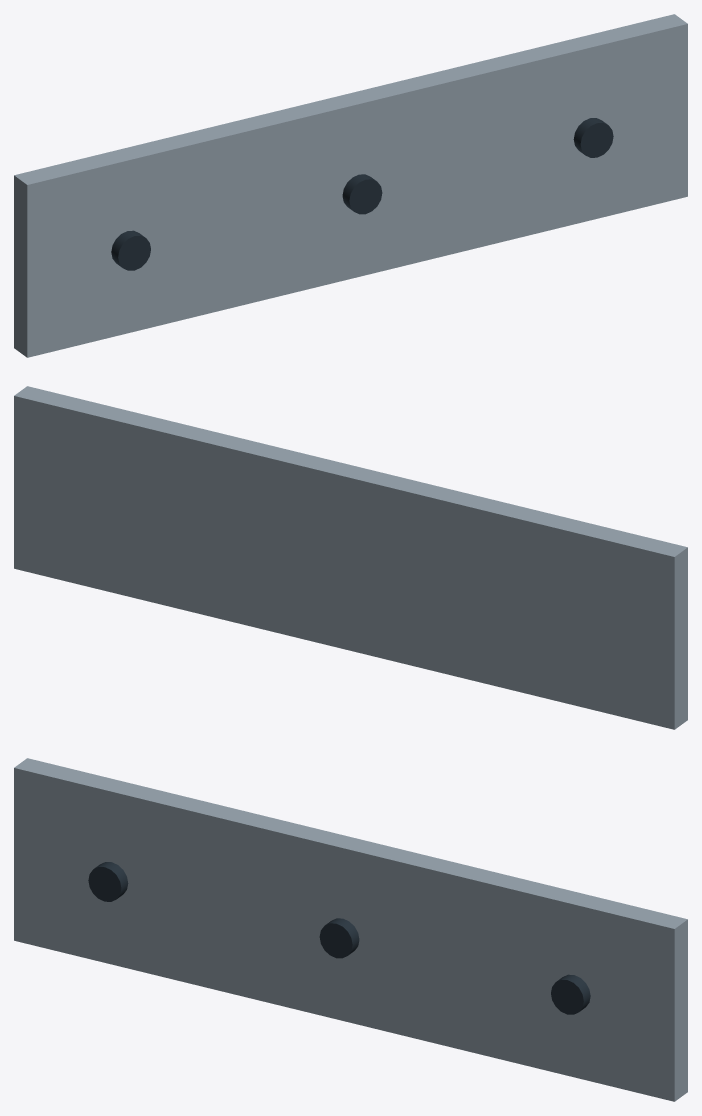
The picture shows the model from 3 angles, top to bottom: view 1: azimuth 30°, elevation 25°; view 2: azimuth 150°, elevation 25°; view 3: azimuth 330°, elevation 25°; orthographic projection.
Visible parts, largest first — view 1: 制动片; view 2: 制动片; view 3: 制动片.
Part boxes in pixels (x1,y1,x2,y2): 制动片: (14,14,687,357); 制动片: (14,386,687,729); 制动片: (14,758,687,1101).
Bounding box in the file's own units: 1 × 0.25 × 0.0565.
